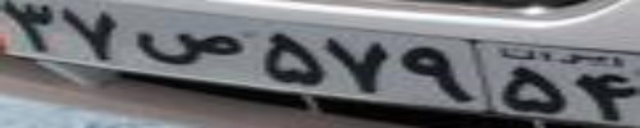3: (2, 0, 55, 53)
4: (573, 72, 638, 122)
5: (259, 33, 321, 86), (498, 66, 566, 114)
7: (325, 36, 390, 94), (59, 4, 120, 63)
9: (398, 45, 471, 101)
saat: (131, 31, 244, 66)
